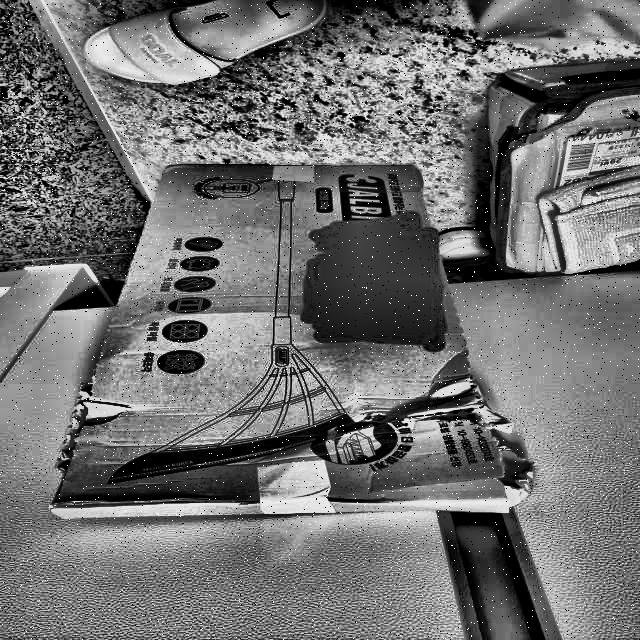box: (39, 149, 542, 527)
hole: (59, 368, 102, 469), (492, 428, 530, 493)
